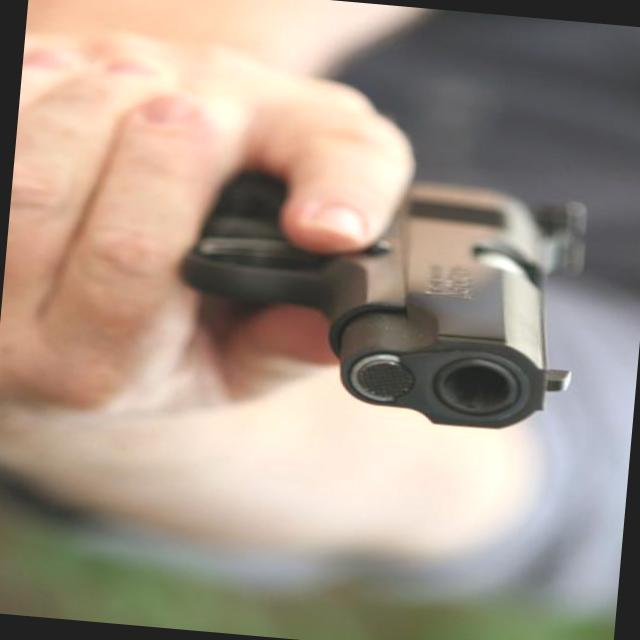handgun: (158, 156, 602, 442)
